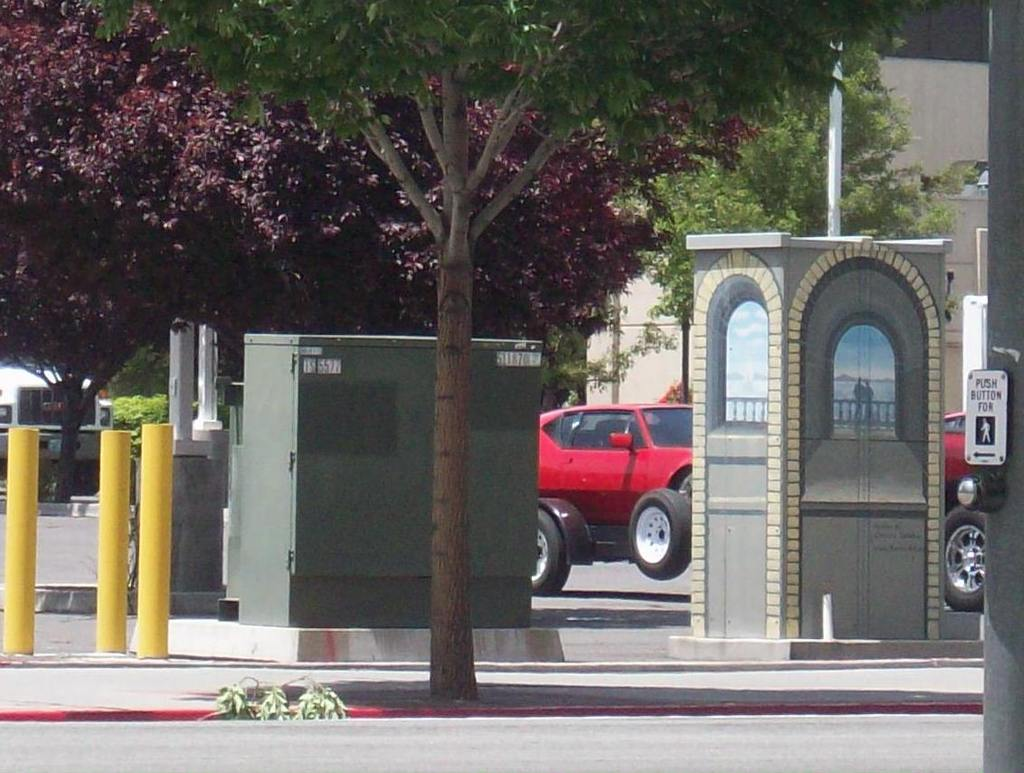Car: (534, 392, 692, 599)
